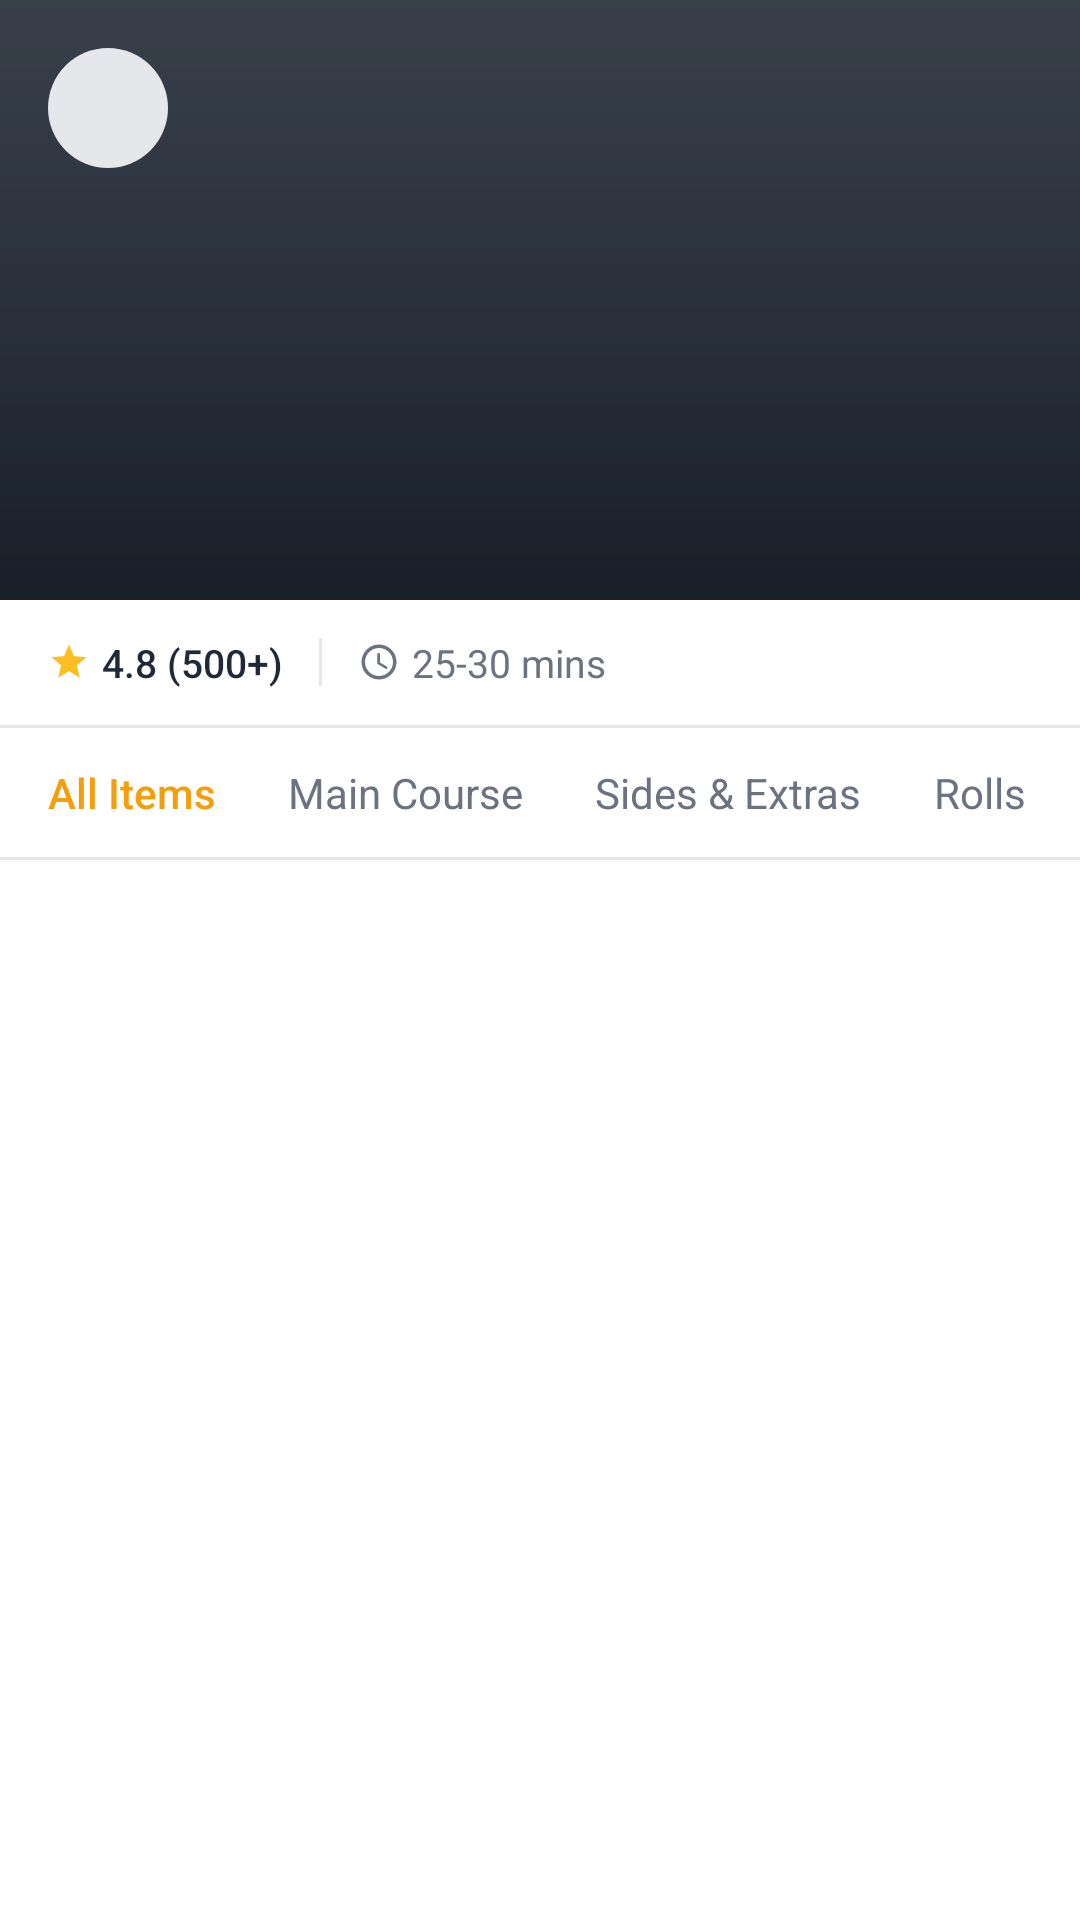

Screen size 1080px×1920px. Icon name, then its box in pixels as (x1, y1, x2, y2):
Clock: (361, 644, 397, 680)
Star: (52, 645, 86, 678)
